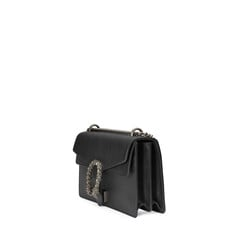Gucci: (74, 127, 167, 217), (85, 152, 119, 200)
